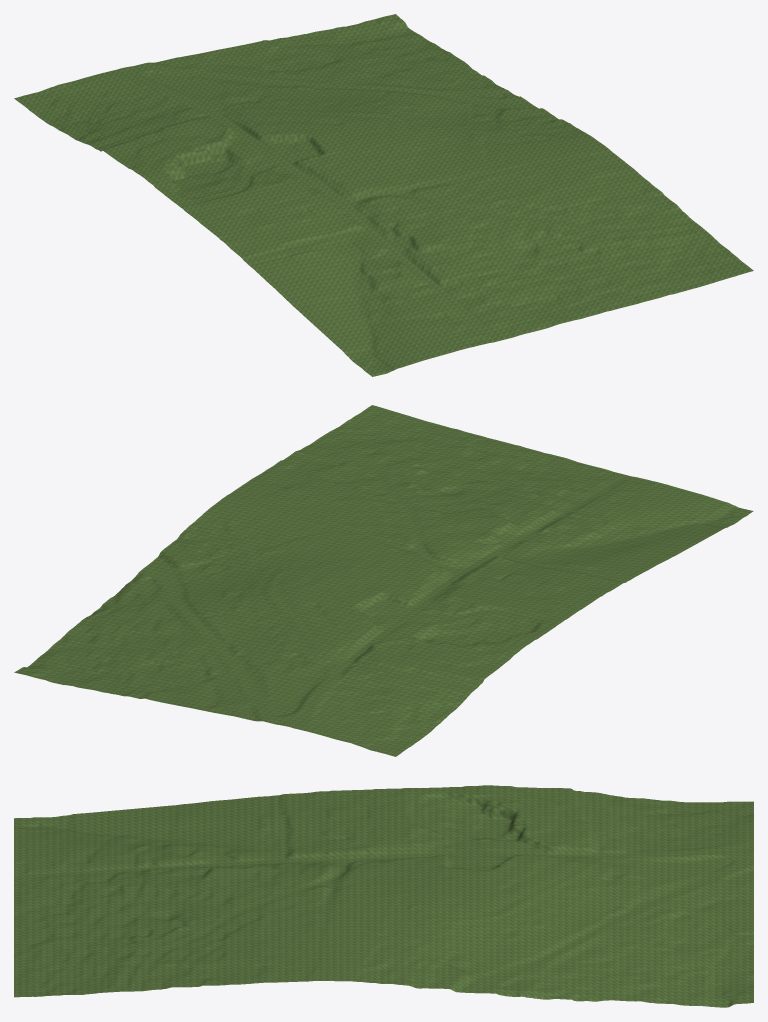
File: terrain.glb
3 views of the same model, one above another, from view 1: azimuth 30°, elevation 25°; view 2: azimuth 150°, elevation 25°; view 3: azimuth 270°, elevation 25° (orthographic). The views are drawn at different scales.
Visible parts, largest first — view 1: Terrain_0; view 2: Terrain_0; view 3: Terrain_0.
Boxes of the visible parts, x1=… form: Terrain_0: x1=14, y1=14, x2=753, y2=376; Terrain_0: x1=14, y1=405, x2=753, y2=756; Terrain_0: x1=14, y1=785, x2=753, y2=1007.
Bounding box in the file's own units: 400 × 32.97 × 650.
Materials: 1 (1 with a texture image).
